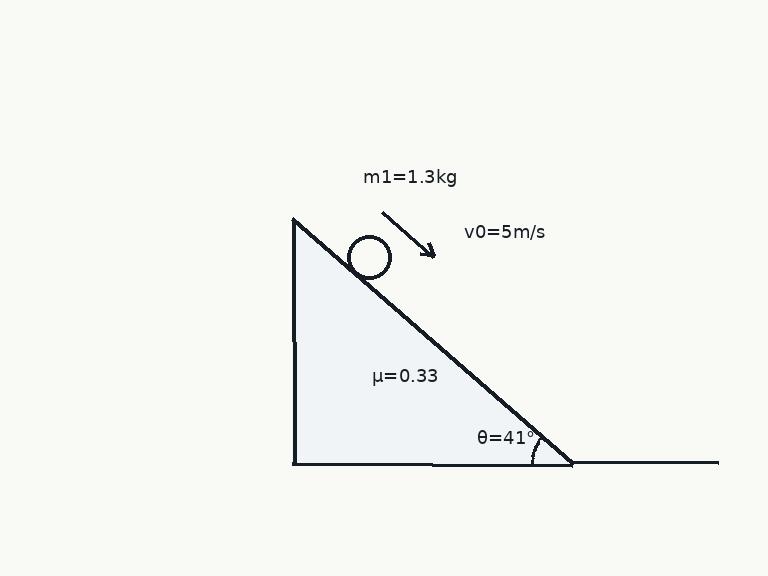ball: (345, 233, 393, 281)
ramp: (291, 218, 574, 465)
